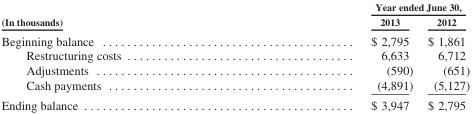table: (0, 0, 469, 111)
table column: (0, 0, 245, 111), (245, 0, 419, 111), (419, 0, 469, 111)
table column header: (0, 0, 469, 30)
table row: (0, 13, 469, 30), (0, 30, 469, 47), (0, 77, 469, 94), (0, 94, 469, 111), (0, 47, 469, 62), (0, 62, 469, 77), (0, 0, 469, 13)
table spanning cell: (0, 0, 245, 30), (245, 0, 469, 13)
